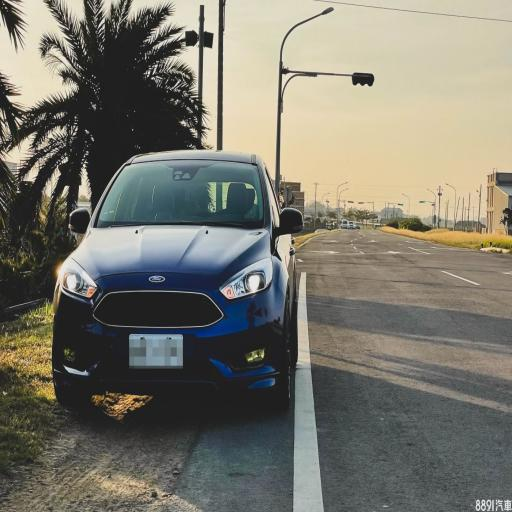car: (44, 138, 300, 422)
whiteline: (290, 264, 329, 512)
